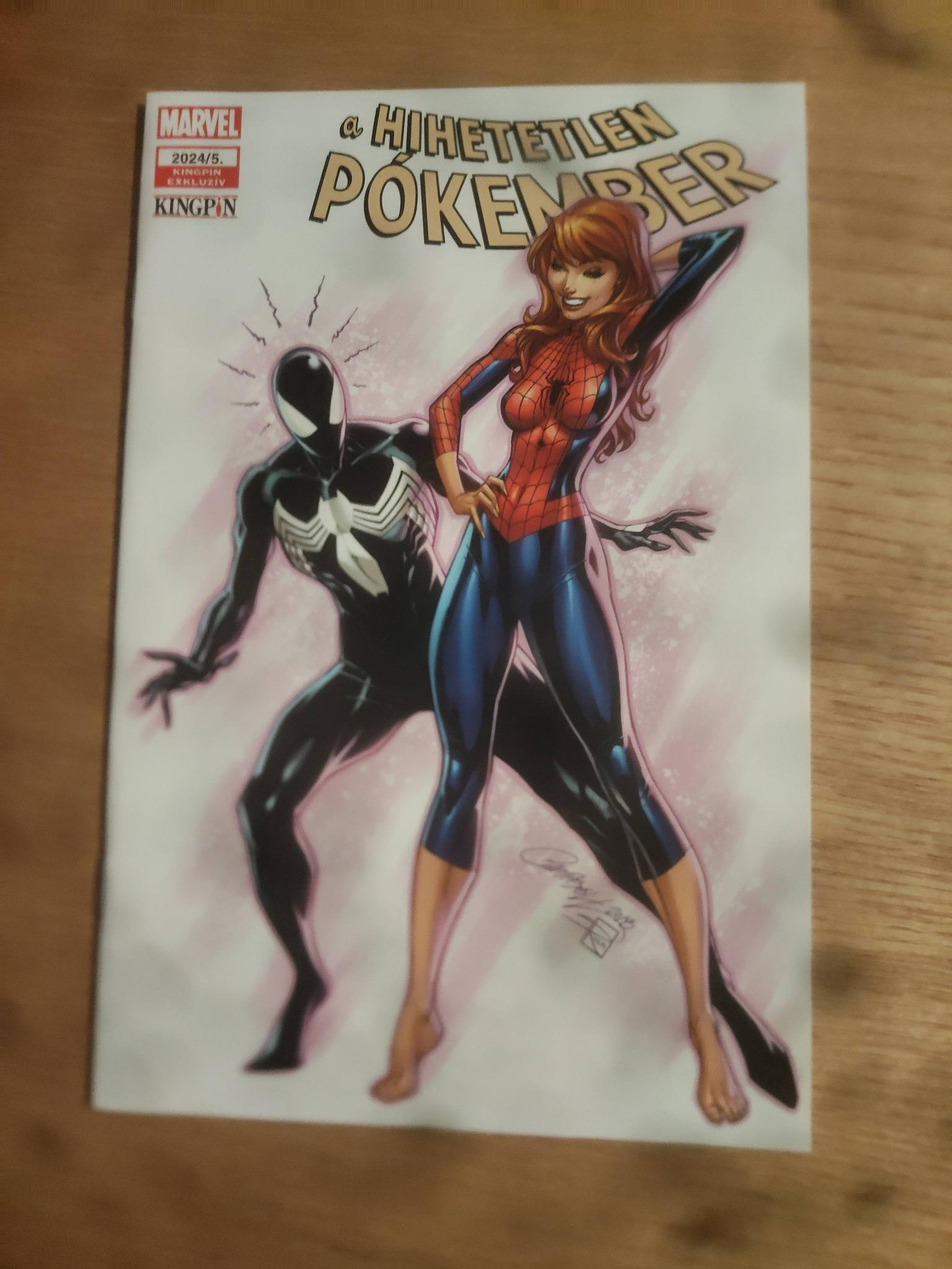comic: (94, 82, 813, 1149)
